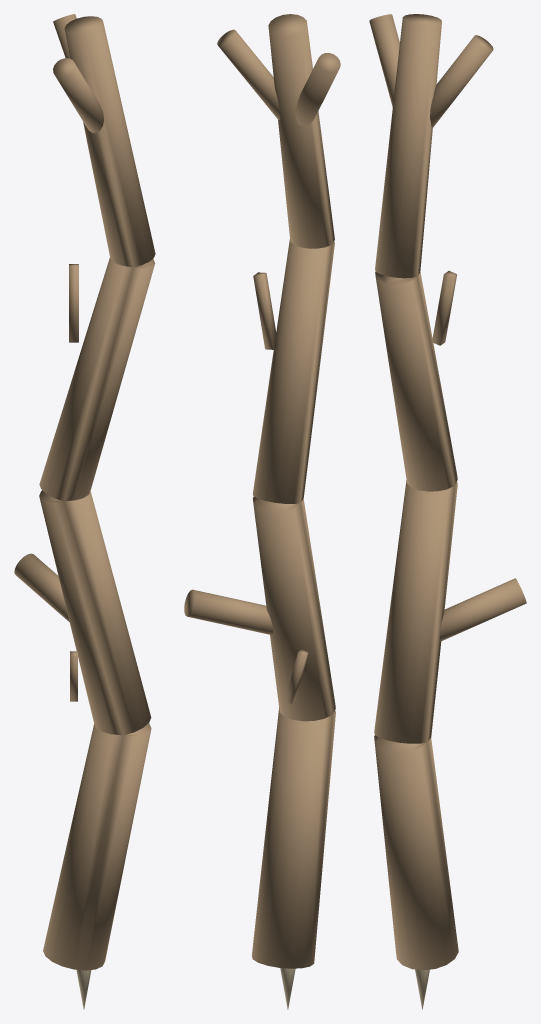
The model's file is stick_1.glb.
The picture shows the model from 3 angles, left to right: view 1: azimuth 90°, elevation 25°; view 2: azimuth 150°, elevation 25°; view 3: azimuth 330°, elevation 25°; orthographic projection.
Visible parts, largest first — view 1: Shaft, Fork_B, Side_Branch, Bark_Ridge_1, Fork_A, Bark_Ridge_2; view 2: Shaft, Side_Branch, Fork_A, Fork_B, Bark_Ridge_1, Bark_Ridge_2; view 3: Shaft, Side_Branch, Fork_A, Fork_B, Bark_Ridge_1.
Boxes of the visible parts, x1,y1,x2,y2 form: Shaft: (39, 16, 155, 970); Fork_B: (53, 58, 104, 132); Side_Branch: (14, 553, 69, 621); Bark_Ridge_1: (69, 264, 78, 342); Fork_A: (53, 14, 76, 58); Bark_Ridge_2: (70, 651, 77, 701); Shaft: (251, 14, 335, 968); Side_Branch: (184, 589, 272, 634); Fork_A: (217, 29, 280, 120); Fork_B: (295, 53, 340, 126); Bark_Ridge_1: (253, 272, 278, 349); Bark_Ridge_2: (285, 649, 308, 703); Shaft: (374, 14, 458, 970); Side_Branch: (439, 578, 526, 640); Fork_A: (430, 35, 493, 127); Fork_B: (369, 14, 399, 107); Bark_Ridge_1: (432, 271, 457, 345).
Size of the model in its own units: 0.0804 by 0.5519 by 0.0715.
